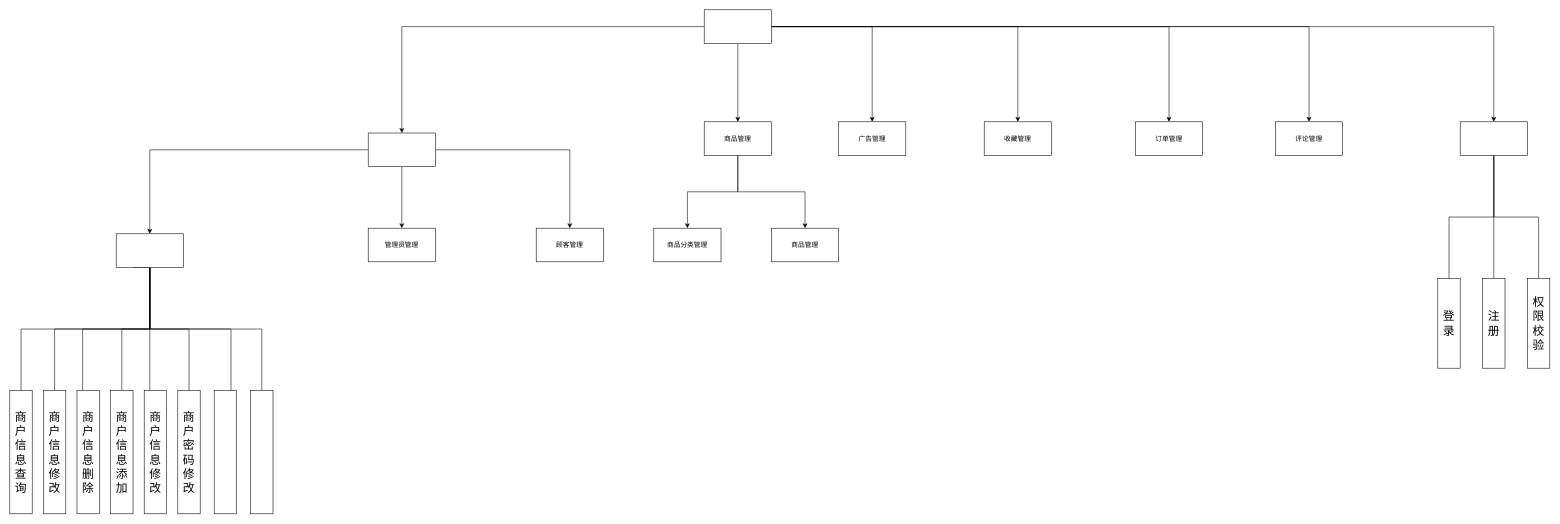
Image size: 1560x524. Some labels were removed from this diagram. The shapes that lost their labels are listed below. From the top down, each one's centre as x and y in pixels, then its label:
the point at 737,26: 校内外卖送餐服务系统
the point at 401,149: 用户管理
the point at 1493,138: 安全权限管理
the point at 149,250: 商户管理
